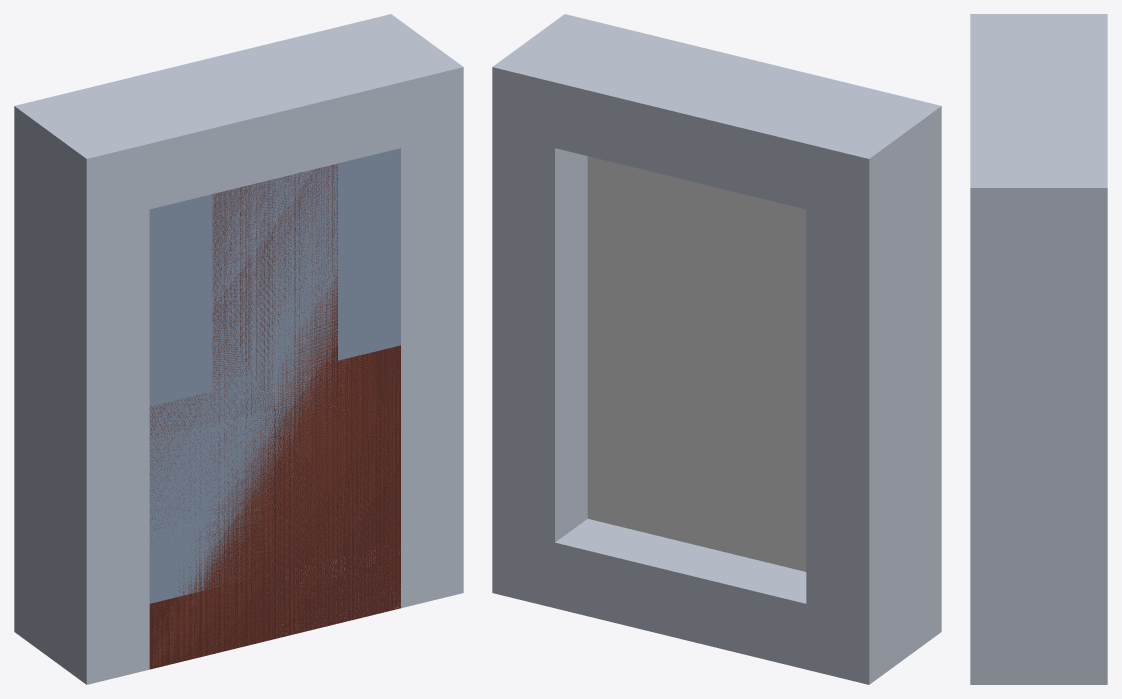
File: PhotoFrame.fbx
The picture shows the model from 3 angles, left to right: view 1: azimuth 30°, elevation 25°; view 2: azimuth 150°, elevation 25°; view 3: azimuth 270°, elevation 25°; orthographic projection. The views are drawn at different scales.
Parts seen in each view (by area): view 1: cube_4, leg, cube_1, cube_2, cube_3, cube; view 2: picture, cube_1, cube_2, cube_3, cube; view 3: cube_3, cube_1, cube.
Part boxes in pixels (left/top/right/bottom): cube_4: left=149, top=148, right=400, bottom=603; leg: left=149, top=164, right=400, bottom=669; cube_1: left=14, top=14, right=463, bottom=224; cube_2: left=14, top=172, right=149, bottom=618; cube_3: left=401, top=133, right=463, bottom=542; cube: left=14, top=527, right=463, bottom=684; picture: left=587, top=156, right=806, bottom=571; cube_1: left=492, top=14, right=941, bottom=224; cube_2: left=806, top=172, right=941, bottom=618; cube_3: left=492, top=133, right=587, bottom=542; cube: left=492, top=519, right=941, bottom=684; cube_3: left=970, top=250, right=1107, bottom=622; cube_1: left=970, top=14, right=1107, bottom=249; cube: left=970, top=623, right=1107, bottom=684.
Bounding box in the file's own units: 37.5 × 50 × 12.5.
Materials: 2 (2 with a texture image).
